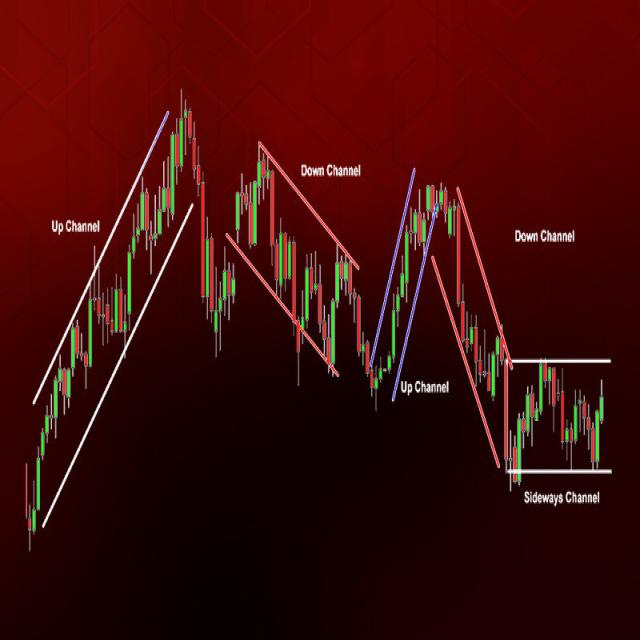Channel-down: (217, 140, 372, 380), (427, 181, 508, 425)
Channel-up: (16, 75, 209, 564), (363, 156, 443, 425)
